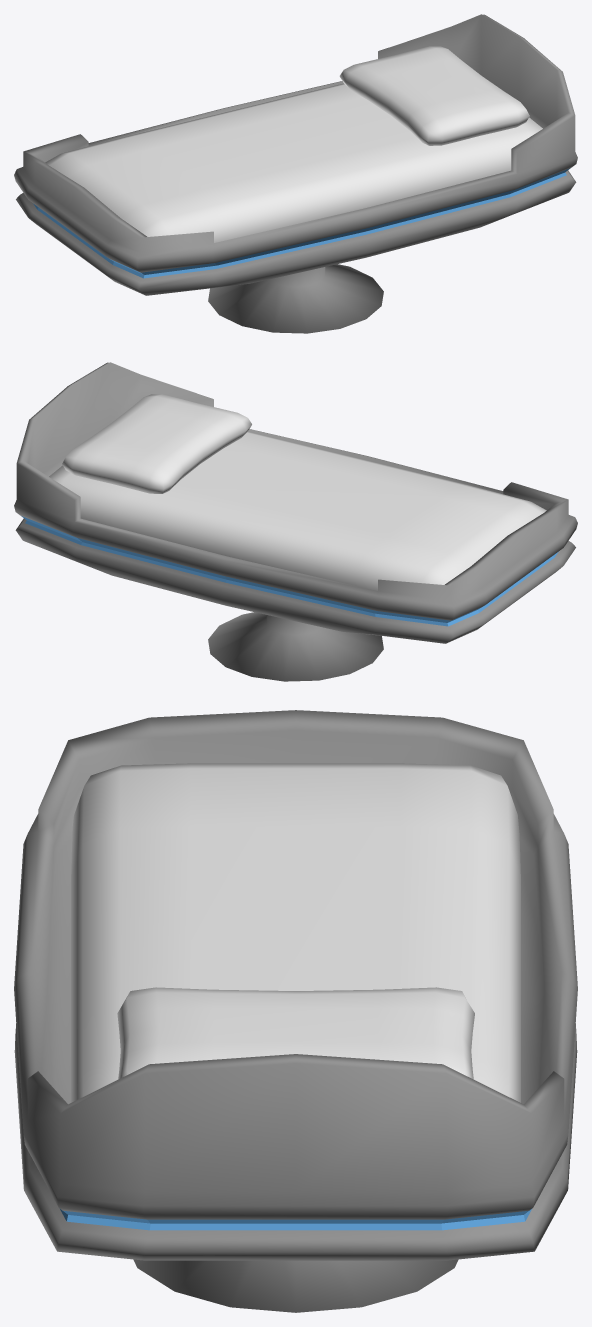
File: Medical Bed.fbx
3 renders of one model, top to bottom at view 1: azimuth 30°, elevation 25°; view 2: azimuth 150°, elevation 25°; view 3: azimuth 270°, elevation 25°, orthographic. The views are drawn at different scales.
Parts seen in each view (by area): view 1: Frame, Matress, Pillow, Stand; view 2: Frame, Matress, Pillow, Stand; view 3: Frame, Matress, Pillow, Stand.
Part boxes in pixels (bbox=[...]): Frame: bbox=[14, 14, 577, 295]; Matress: bbox=[45, 83, 542, 242]; Pillow: bbox=[339, 46, 529, 145]; Stand: bbox=[208, 264, 383, 333]; Frame: bbox=[14, 362, 577, 643]; Matress: bbox=[49, 431, 546, 590]; Pillow: bbox=[62, 394, 251, 493]; Stand: bbox=[208, 612, 383, 681]; Frame: bbox=[14, 710, 577, 1260]; Matress: bbox=[71, 763, 520, 1102]; Pillow: bbox=[117, 987, 474, 1079]; Stand: bbox=[133, 1259, 458, 1312].
Size of the model in its own units: 449 by 191 by 246.
